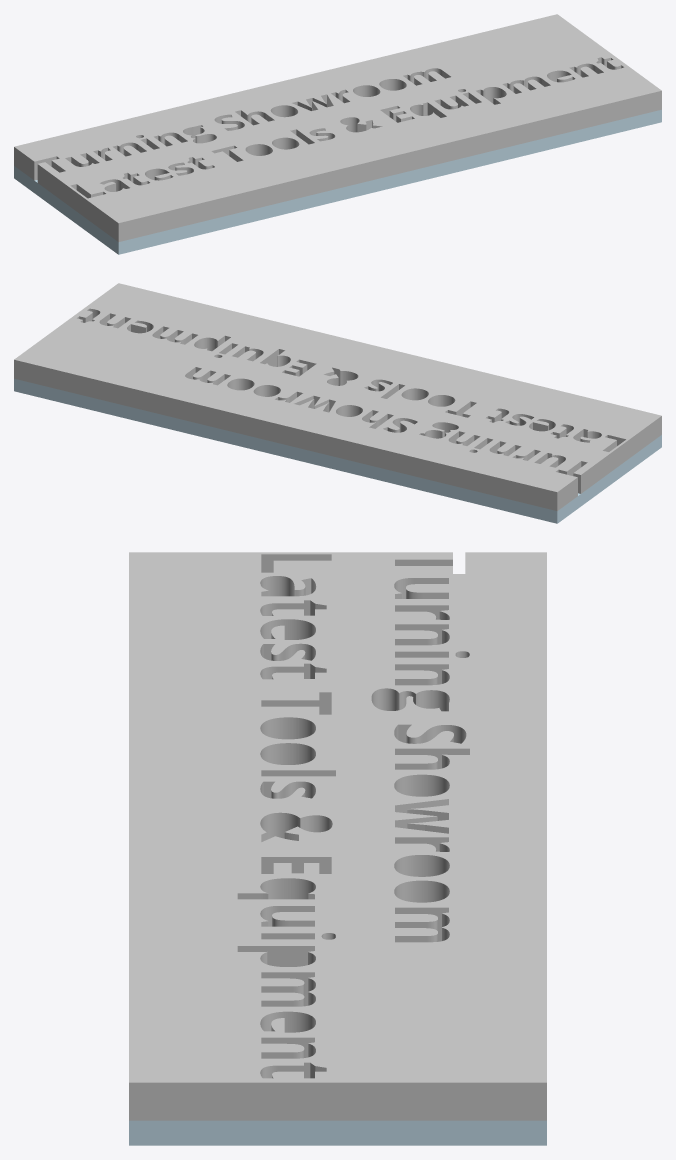
The model's file is Turning board.fbx.
The picture shows the model from 3 angles, top to bottom: view 1: azimuth 30°, elevation 25°; view 2: azimuth 150°, elevation 25°; view 3: azimuth 270°, elevation 25°; orthographic projection. The views are drawn at different scales.
Visible parts, largest first — view 1: imagetostl_mesh0, imagetostl_mesh1; view 2: imagetostl_mesh0, imagetostl_mesh1; view 3: imagetostl_mesh0, imagetostl_mesh1.
Part boxes in pixels (x1,y1,x2,y2): imagetostl_mesh0: (14,14,661,242); imagetostl_mesh1: (14,109,661,254); imagetostl_mesh0: (14,283,661,511); imagetostl_mesh1: (14,378,661,523); imagetostl_mesh0: (129,552,546,1120); imagetostl_mesh1: (129,1120,546,1145).
Size of the model in its own units: 9000 by 500 by 3000.
